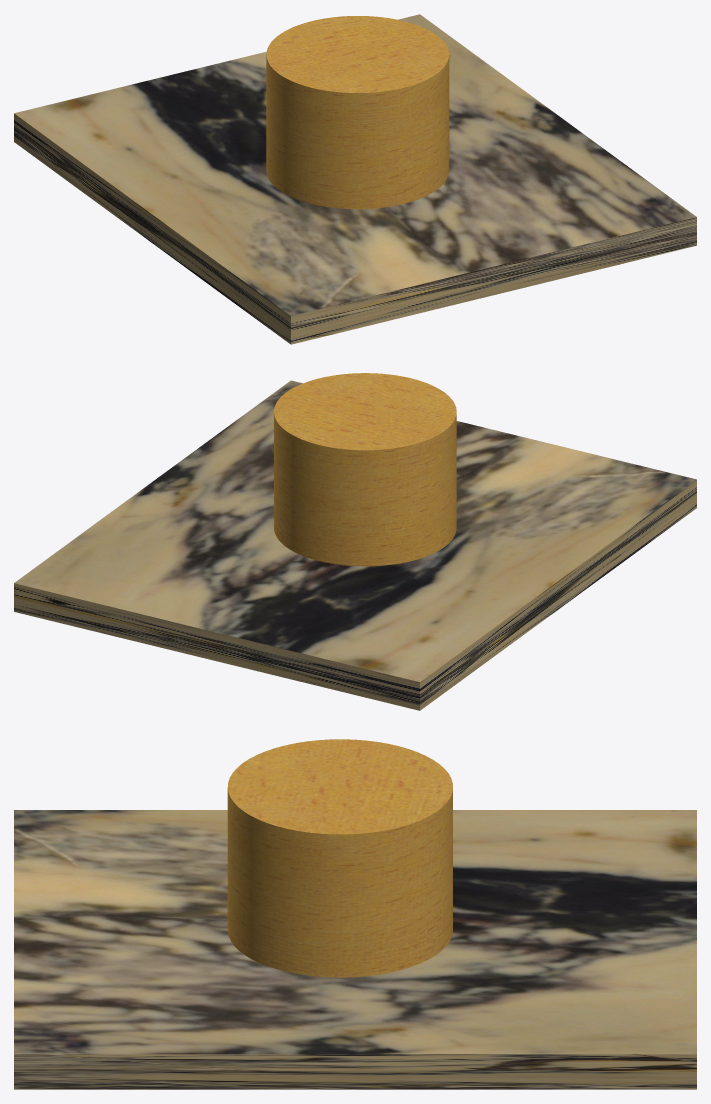
3 renders of one model, top to bottom at view 1: azimuth 30°, elevation 25°; view 2: azimuth 150°, elevation 25°; view 3: azimuth 270°, elevation 25°, orthographic. The views are drawn at different scales.
Visible parts, largest first — view 1: Extrusion (×2); view 2: Extrusion (×2); view 3: Extrusion (×2).
Part boxes in pixels (x1,y1,x2,y2): Extrusion (×2): (14,14,696,344); Extrusion (×2): (14,373,696,710); Extrusion (×2): (14,739,696,1089).
Size of the model in its own units: 0.4276 by 0.1456 by 0.5053.
2 materials, 2 textured.
